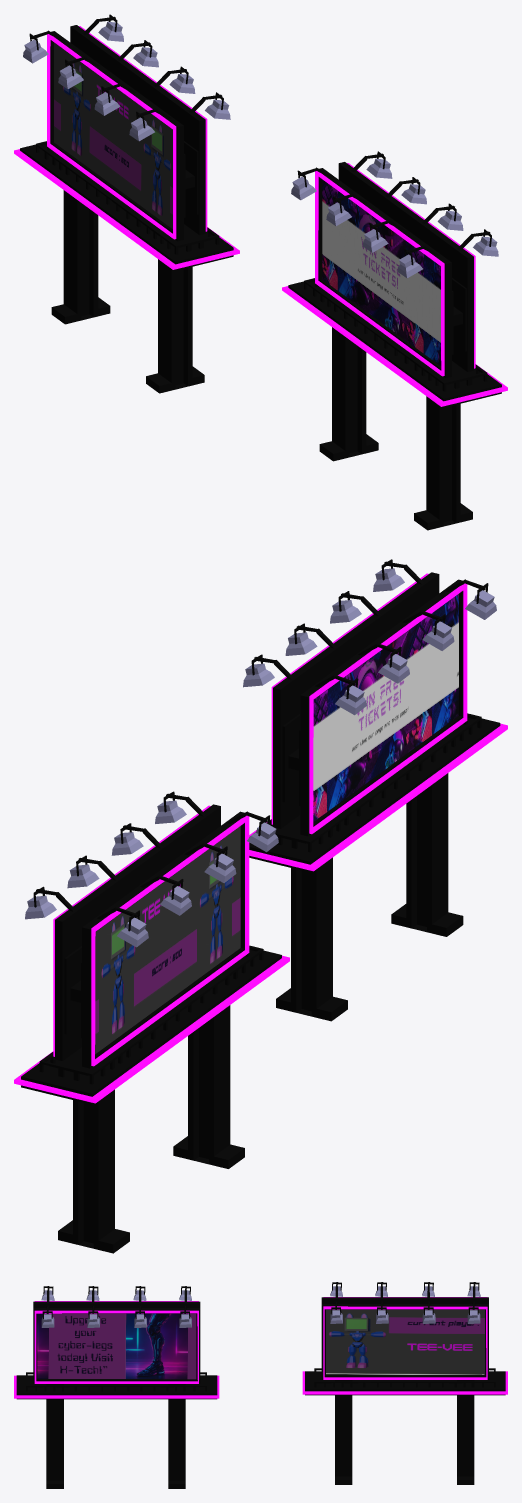
File: Textured Billboards 4.fbx
The picture shows the model from 3 angles, top to bottom: view 1: azimuth 30°, elevation 25°; view 2: azimuth 150°, elevation 25°; view 3: azimuth 270°, elevation 25°; orthographic projection. The views are drawn at different scales.
Parts seen in each view (by area): view 1: Cube.024, Cube, Cube.001, Cube.020, Cube.023, Cube.002, Cube.022, Cube.043, Cube.019, Cube.041, Cube.042; view 2: Cube.024, Cube, Cube.001, Cube.020, Cube.002, Cube.023, Cube.022, Cube.043, Cube.041, Cube.019; view 3: Cube.023, Cube.002, Cube, Cube.024, Cube.021, Cube.042, Cube.001, Cube.020, Cube.041, Cube.019.
Part boxes in pixels (x1,y1,x2,y2): Cube.024: [20, 141, 233, 393]; Cube: [288, 278, 501, 530]; Cube.001: [318, 168, 451, 377]; Cube.020: [50, 31, 183, 241]; Cube.023: [70, 25, 205, 234]; Cube.002: [338, 162, 473, 371]; Cube.022: [315, 171, 444, 376]; Cube.043: [47, 34, 176, 239]; Cube.019: [282, 286, 507, 406]; Cube.041: [14, 149, 239, 269]; Cube.042: [79, 26, 207, 231]; Cube.024: [21, 945, 281, 1253]; Cube: [249, 713, 500, 1021]; Cube.001: [300, 579, 463, 836]; Cube.020: [82, 811, 244, 1068]; Cube.002: [273, 572, 439, 828]; Cube.023: [55, 804, 220, 1060]; Cube.022: [309, 583, 467, 834]; Cube.043: [91, 815, 249, 1066]; Cube.041: [14, 955, 289, 1103]; Cube.019: [249, 723, 507, 871]; Cube.023: [321, 1304, 488, 1379]; Cube.002: [33, 1308, 200, 1383]; Cube: [16, 1372, 217, 1488]; Cube.024: [305, 1368, 505, 1484]; Cube.021: [34, 1310, 198, 1383]; Cube.042: [323, 1306, 487, 1379]; Cube.001: [33, 1301, 200, 1307]; Cube.020: [321, 1297, 488, 1303]; Cube.041: [302, 1371, 507, 1394]; Cube.019: [14, 1375, 219, 1398].
Size of the model in its own units: 1601 by 3342 by 7731.
7 materials, 4 textured.
